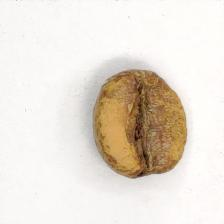NG: (98, 72, 172, 177)
